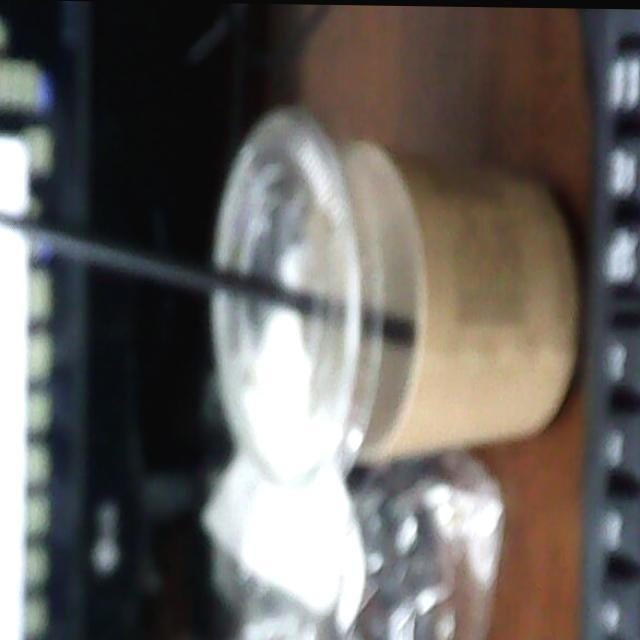cup: (216, 104, 589, 480)
